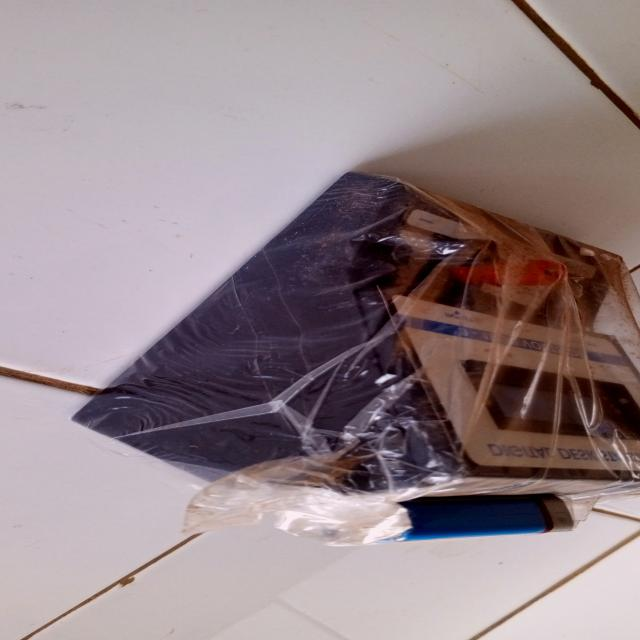Digital Voltmeter 0-20V: (75, 155, 618, 542)
